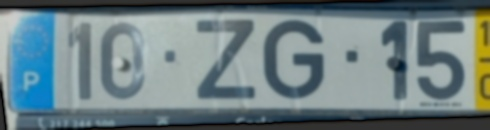0: (98, 20, 146, 101)
1: (379, 19, 408, 101), (65, 21, 91, 102)
5: (415, 20, 464, 100)
G: (262, 18, 324, 101)
Z: (194, 18, 255, 99)
